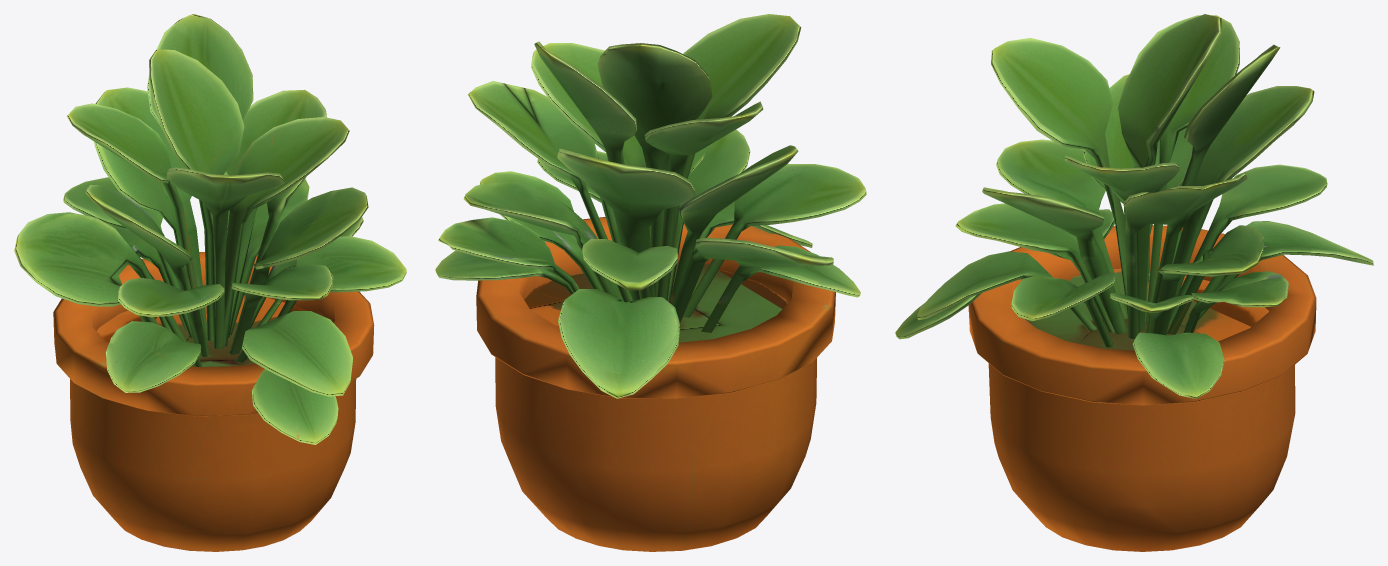
Rendered from prop_plant_pot.glb.
The picture shows the model from 3 angles, left to right: view 1: azimuth 30°, elevation 25°; view 2: azimuth 150°, elevation 25°; view 3: azimuth 270°, elevation 25°; orthographic projection. The views are drawn at different scales.
Bounding box in the file's own units: 0.8203 × 1 × 0.908.
1 material, 1 textured.
